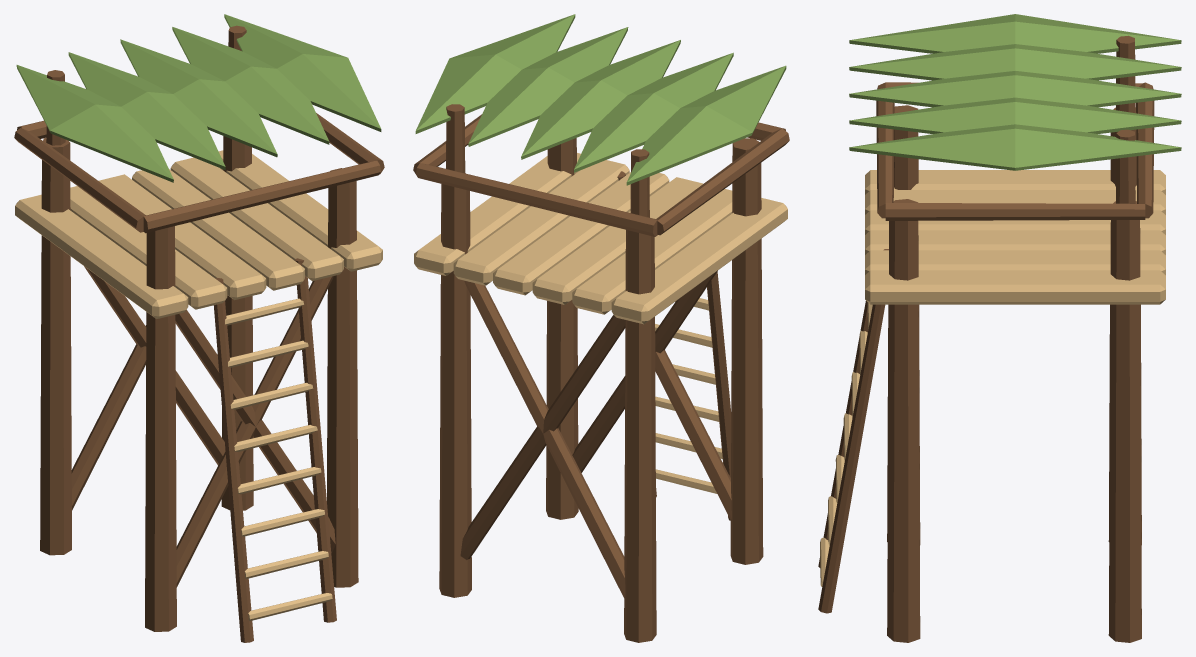
File: CC_Watchtower.fbx
3 renders of one model, left to right at view 1: azimuth 30°, elevation 25°; view 2: azimuth 150°, elevation 25°; view 3: azimuth 270°, elevation 25°, orthographic. The views are drawn at different scales.
Parts seen in each view (by area): view 1: Tower leg, Tower leg.002, Tower leg.001, Canopy.008, Platform, Canopy.012, Canopy.009, Canopy.010, Canopy.011, Platform.004, Platform.003, Cross brace (+20 smaller); view 2: Tower leg.001, Tower leg.003, Tower leg, Canopy.008, Platform, Canopy.012, Canopy.009, Canopy.011, Canopy.010, Cross brace.002, Tower leg.002, Platform.004 (+14 smaller); view 3: Tower leg.002, Tower leg.003, Platform.005, Canopy.012, Canopy.009, Canopy.008, Canopy.010, Canopy.011, Platform.004, Platform.003, Guardrail.003, Platform (+10 smaller).
Boxes of the visible parts, bbox=[...] form: Tower leg: bbox=[145, 226, 176, 631]; Tower leg.002: bbox=[327, 168, 358, 587]; Tower leg.001: bbox=[40, 137, 71, 555]; Canopy.008: bbox=[16, 65, 173, 182]; Platform: bbox=[15, 194, 188, 318]; Canopy.012: bbox=[224, 14, 381, 131]; Canopy.009: bbox=[68, 52, 225, 169]; Canopy.010: bbox=[120, 39, 277, 157]; Canopy.011: bbox=[172, 27, 329, 144]; Platform.004: bbox=[170, 157, 343, 281]; Platform.003: bbox=[132, 169, 304, 290]; Cross brace: bbox=[176, 276, 333, 587]; Tower leg.001: bbox=[624, 230, 656, 642]; Tower leg.003: bbox=[439, 173, 471, 597]; Tower leg: bbox=[730, 138, 763, 564]; Canopy.008: bbox=[626, 65, 786, 185]; Platform: bbox=[611, 198, 787, 324]; Canopy.012: bbox=[415, 14, 575, 133]; Canopy.009: bbox=[574, 52, 733, 172]; Canopy.011: bbox=[468, 27, 628, 146]; Canopy.010: bbox=[521, 40, 680, 159]; Cross brace.002: bbox=[464, 280, 625, 598]; Tower leg.002: bbox=[546, 138, 578, 519]; Platform.004: bbox=[453, 160, 629, 285]; Tower leg.002: bbox=[887, 199, 920, 642]; Tower leg.003: bbox=[1108, 201, 1141, 642]; Platform.005: bbox=[865, 270, 1165, 304]; Canopy.012: bbox=[849, 124, 1181, 170]; Canopy.009: bbox=[849, 44, 1181, 80]; Canopy.008: bbox=[849, 14, 1181, 53]; Canopy.010: bbox=[849, 71, 1181, 107]; Canopy.011: bbox=[849, 97, 1181, 133]; Platform.004: bbox=[865, 250, 1165, 275]; Platform.003: bbox=[865, 230, 1165, 254]; Guardrail.003: bbox=[885, 203, 1145, 220]; Platform: bbox=[865, 170, 1165, 194].
Size of the model in its own units: 2.3 by 3.59 by 2.29.
